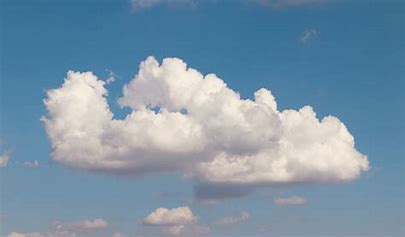Cumulus: (33, 46, 378, 203)
